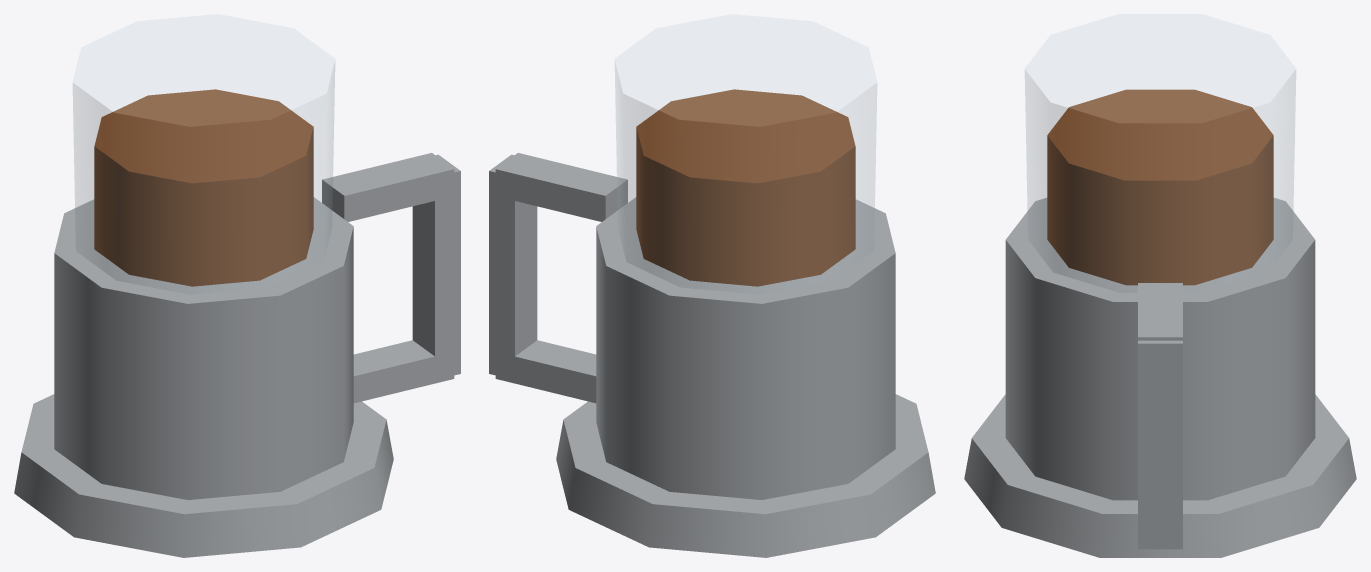
The model's file is cup.glb.
The picture shows the model from 3 angles, left to right: view 1: azimuth 30°, elevation 25°; view 2: azimuth 150°, elevation 25°; view 3: azimuth 270°, elevation 25°; orthographic projection.
Visible parts, largest first — view 1: #b0b4b8 metal 0.8 rough 0.35, #d8e8f0 rough 0.1 alpha 0.28_noshadow, #b0b4b8 metal 0.8 rough 0.35_noshadow, #8a4a1c_noshadow; view 2: #b0b4b8 metal 0.8 rough 0.35, #d8e8f0 rough 0.1 alpha 0.28_noshadow, #b0b4b8 metal 0.8 rough 0.35_noshadow, #8a4a1c_noshadow; view 3: #d8e8f0 rough 0.1 alpha 0.28_noshadow, #b0b4b8 metal 0.8 rough 0.35, #8a4a1c_noshadow, #b0b4b8 metal 0.8 rough 0.35_noshadow.
Part boxes in pixels (x1,y1,x2,y2): #b0b4b8 metal 0.8 rough 0.35: [54, 197, 353, 499]; #d8e8f0 rough 0.1 alpha 0.28_noshadow: [73, 14, 334, 294]; #b0b4b8 metal 0.8 rough 0.35_noshadow: [14, 153, 460, 557]; #8a4a1c_noshadow: [94, 89, 313, 286]; #b0b4b8 metal 0.8 rough 0.35: [596, 197, 895, 499]; #d8e8f0 rough 0.1 alpha 0.28_noshadow: [615, 14, 876, 294]; #b0b4b8 metal 0.8 rough 0.35_noshadow: [489, 153, 935, 557]; #8a4a1c_noshadow: [636, 89, 855, 286]; #d8e8f0 rough 0.1 alpha 0.28_noshadow: [1025, 14, 1295, 292]; #b0b4b8 metal 0.8 rough 0.35: [1005, 197, 1315, 500]; #8a4a1c_noshadow: [1047, 89, 1273, 285]; #b0b4b8 metal 0.8 rough 0.35_noshadow: [964, 283, 1356, 557].
Size of the model in its own units: 0.1255 by 0.12 by 0.104.
